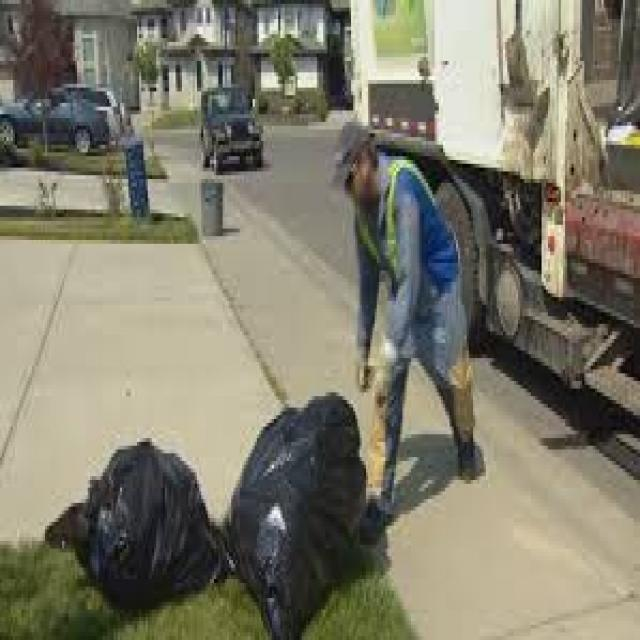plastic_bag: (232, 371, 371, 615), (66, 439, 220, 599)
